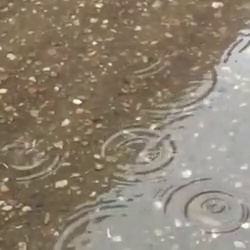drop: (97, 125, 180, 187), (163, 177, 250, 235), (53, 199, 139, 250), (145, 60, 219, 115), (1, 139, 61, 182), (133, 55, 166, 80)
